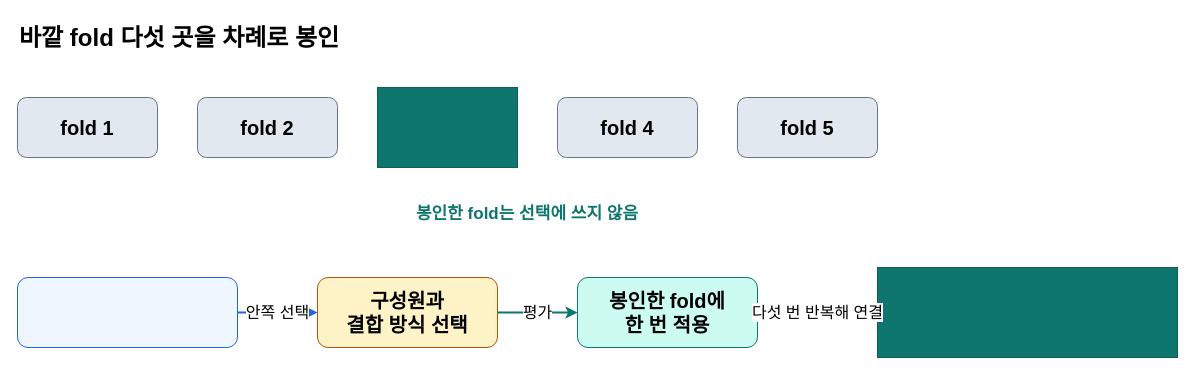
Image size: 1195x375. Some labels were removed from this diagram. The shapes that lost their labels are listed below. From the top down, each one's centre as x and y in pixels, then its label:
At (447,127): "fold 3 봉인".
At (127,312): "나머지 네 fold의 OOF".
At (1027,312): "nested OOF 봉인한 행의 예측만 연결".
